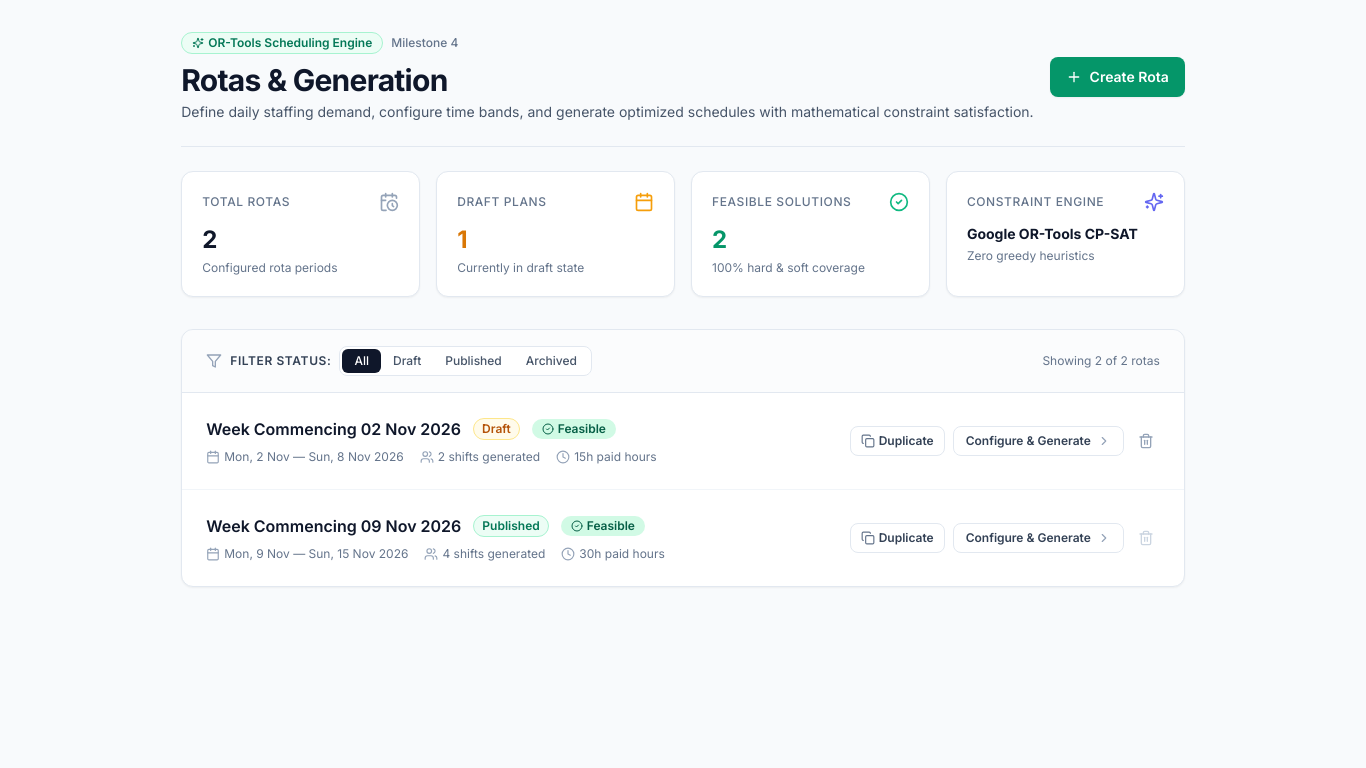
Milestone 7 Frontend - Exports, History, Clipboard & Lifecycle › renders status filters and duplicate button in RotasPage
This screenshot has width=1366, height=768.
Expected: the link "Week Commencing 02 Nov 2026" is shown, [206,417,461,441]
Expected: the link "Week Commencing 09 Nov 2026" is shown, [206,514,461,538]
Click duplicate on first rota
Click the button with aria-label "duplicate rota" at (897, 441), box [850,426,945,456]
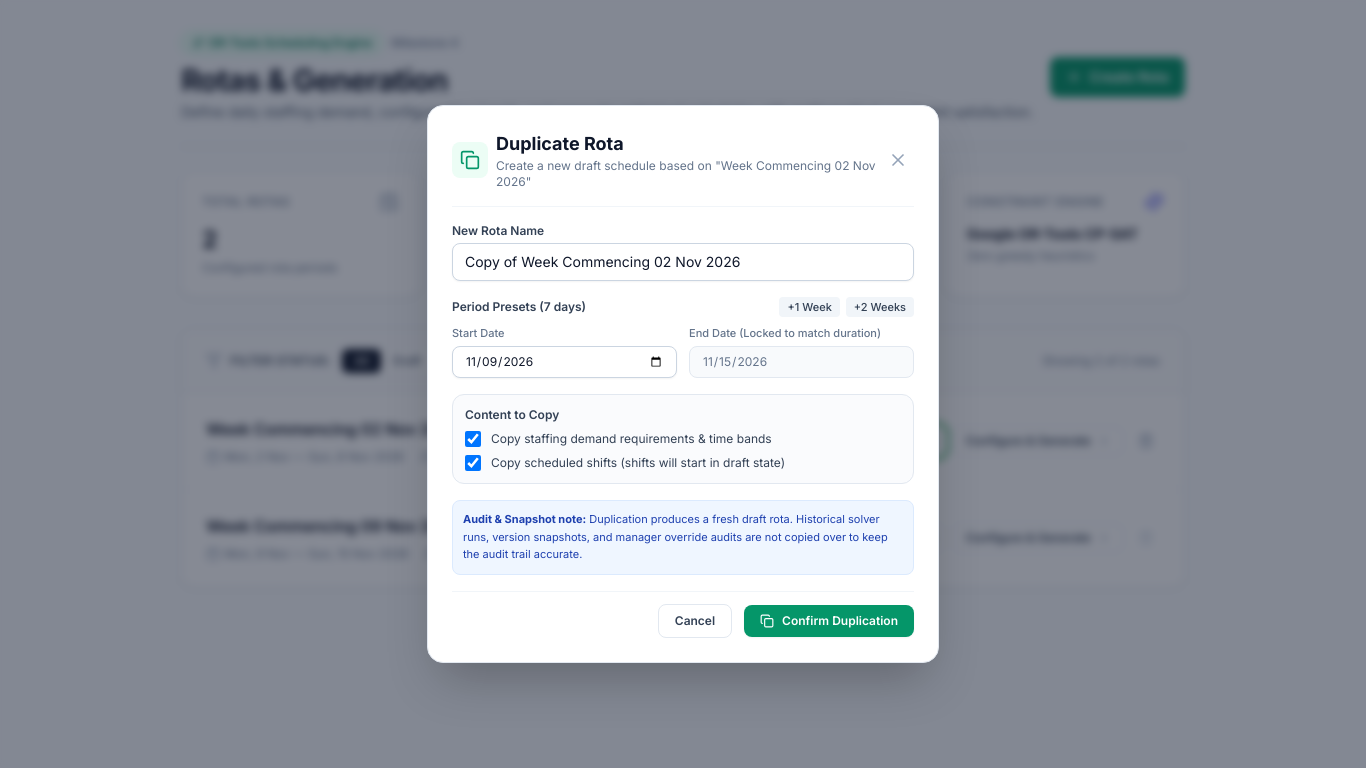
Result: the heading "Duplicate Rota" is shown at [496,133,624,154]
Result: the field showing "Copy of Week Commencing 02 Nov 2026" is shown at [452,243,914,281]
Result: the text "Copy staffing demand requirements & time bands" is shown at [491,431,772,447]
